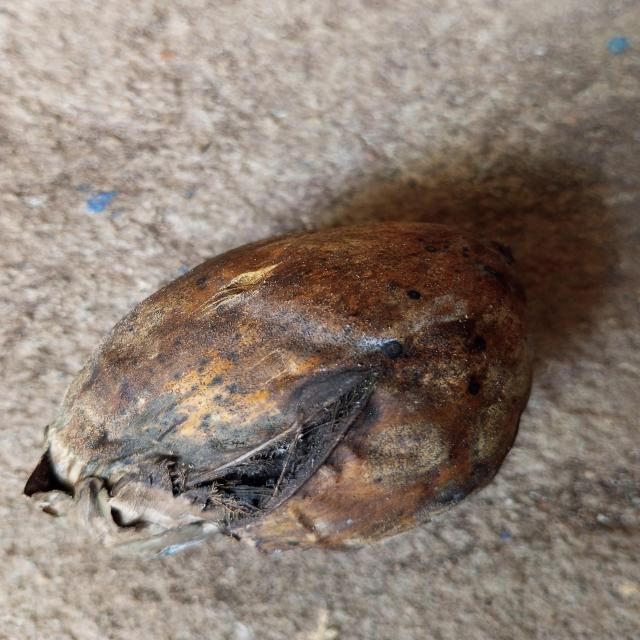damaged: (25, 223, 532, 555)
